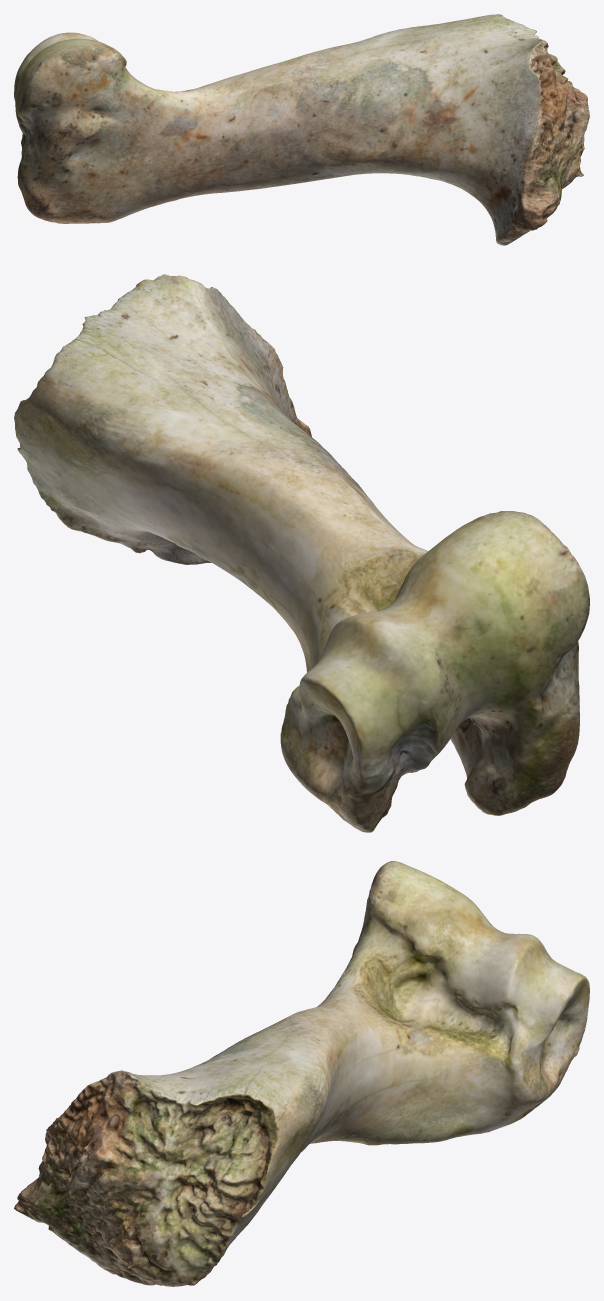
File: broken-bone.fbx
The picture shows the model from 3 angles, top to bottom: view 1: azimuth 30°, elevation 25°; view 2: azimuth 150°, elevation 25°; view 3: azimuth 270°, elevation 25°; orthographic projection. The views are drawn at different scales.
Parts seen in each view (by area): view 1: broken-bone; view 2: broken-bone; view 3: broken-bone.
Boxes of the visible parts, x1,y1,x2,y2 form: broken-bone: [14, 14, 589, 245]; broken-bone: [14, 274, 589, 832]; broken-bone: [14, 861, 589, 1286].
Size of the model in its own units: 33.69 by 36.67 by 14.57.
Materials: 1 (1 with a texture image).
